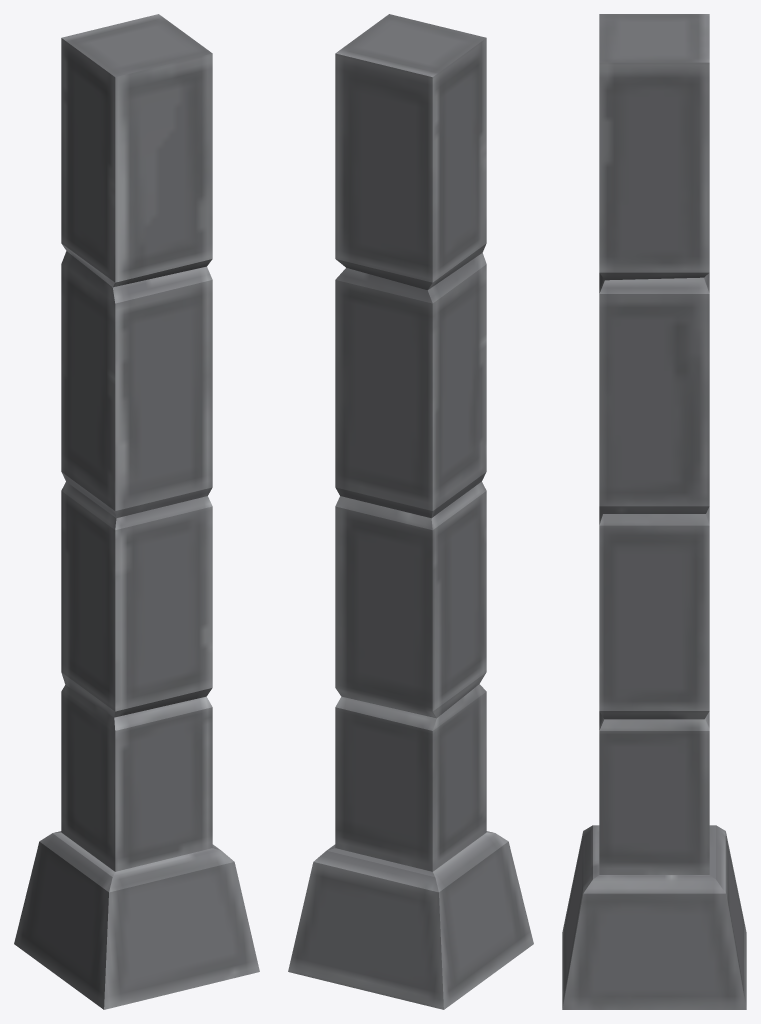
File: pillar.fbx
The picture shows the model from 3 angles, left to right: view 1: azimuth 30°, elevation 25°; view 2: azimuth 150°, elevation 25°; view 3: azimuth 270°, elevation 25°; orthographic projection. The views are drawn at different scales.
Parts seen in each view (by area): view 1: Pillar; view 2: Pillar; view 3: Pillar.
Boxes of the visible parts, left/top/right/bottom form: Pillar: left=14, top=14, right=259, bottom=1009; Pillar: left=288, top=14, right=533, bottom=1009; Pillar: left=562, top=14, right=746, bottom=1009.
Bounding box in the file's own units: 550 × 3075 × 550.
Materials: 1 (1 with a texture image).
